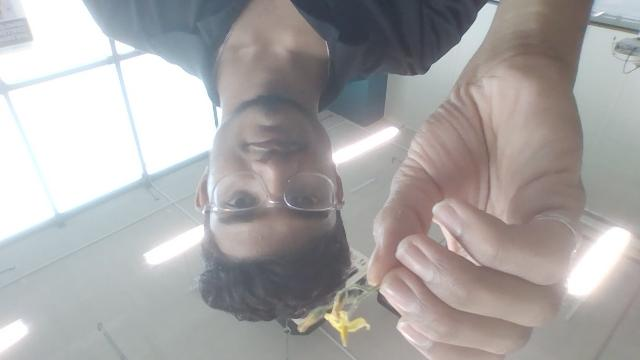Anthesis: (325, 306, 370, 347), (330, 291, 347, 323)
